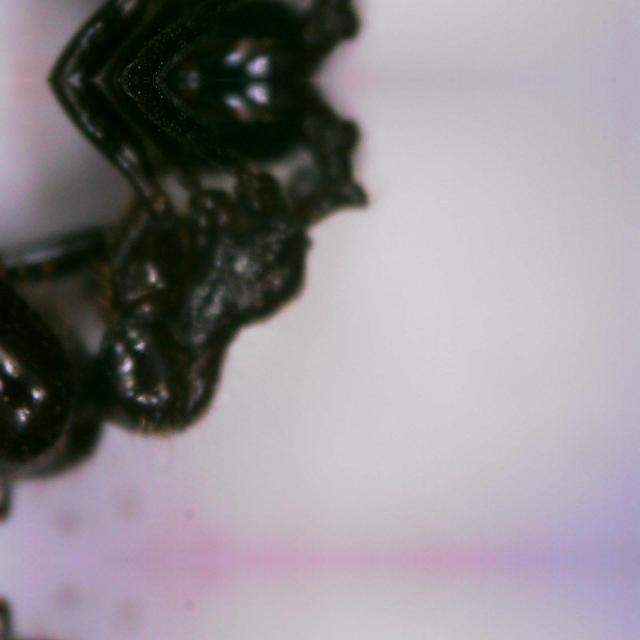Messor: (0, 82, 390, 436), (0, 0, 390, 78)
